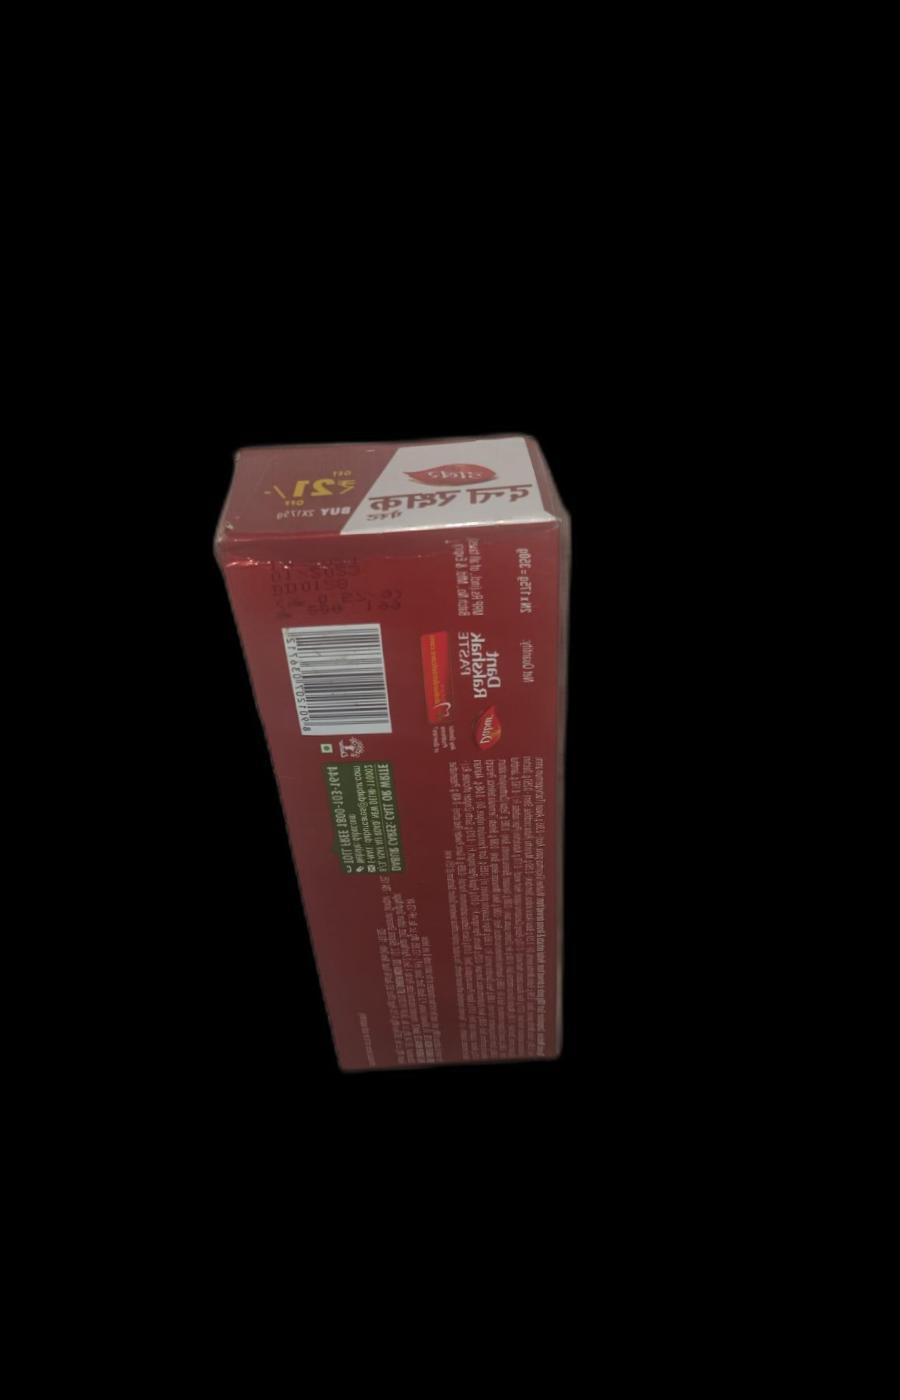Dabur Dant Rakshak Ayurvedic Paste 175 g -Pack of 2-: (201, 405, 607, 1095)
